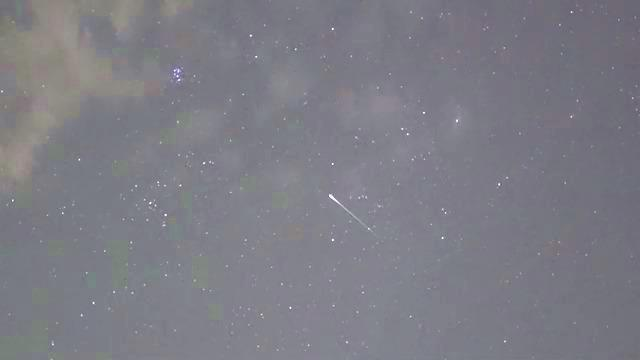meteorite: (308, 191, 389, 236)
